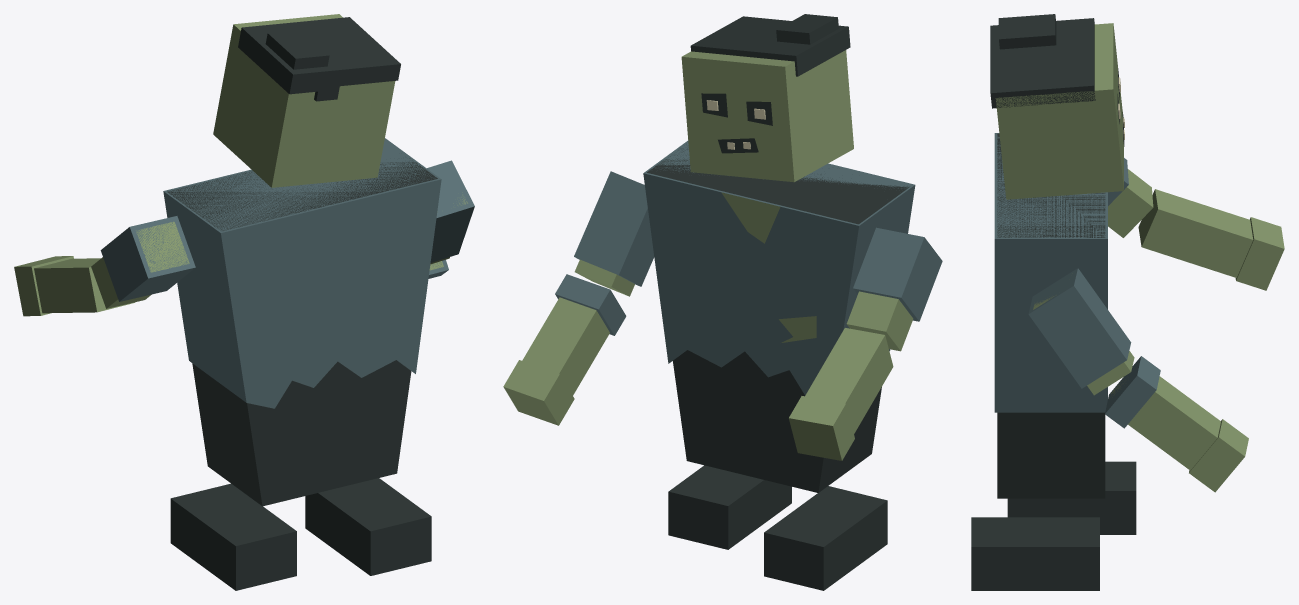
Rendered from zombie_shambler.glb.
3 views of the same model, side by side, from view 1: azimuth 30°, elevation 25°; view 2: azimuth 150°, elevation 25°; view 3: azimuth 270°, elevation 25° (orthographic). The views are drawn at different scales.
Visible parts, largest first — view 1: body, head, ShoeLeft, ShoeRight, armLeft, handLeft, armRight; view 2: body, head, handRight, ShoeLeft, handLeft, armLeft, ShoeRight, armRight; view 3: body, head, ShoeRight, handRight, handLeft, armRight, ShoeLeft, armLeft.
Part boxes in pixels (x1=…): body: x1=163, y1=138, x2=441, y2=506; head: x1=213, y1=14, x2=400, y2=187; ShoeLeft: x1=170, y1=483, x2=296, y2=590; ShoeRight: x1=305, y1=478, x2=431, y2=575; armLeft: x1=91, y1=216, x2=195, y2=308; handLeft: x1=14, y1=256, x2=134, y2=316; armRight: x1=427, y1=160, x2=474, y2=264; body: x1=643, y1=140, x2=915, y2=492; head: x1=681, y1=14, x2=853, y2=182; handRight: x1=503, y1=274, x2=626, y2=425; ShoeLeft: x1=764, y1=486, x2=887, y2=590; handLeft: x1=788, y1=328, x2=893, y2=460; armLeft: x1=846, y1=227, x2=942, y2=351; ShoeRight: x1=668, y1=465, x2=791, y2=549; armRight: x1=574, y1=171, x2=654, y2=296; body: x1=994, y1=133, x2=1107, y2=498; head: x1=990, y1=14, x2=1124, y2=199; ShoeRight: x1=971, y1=517, x2=1099, y2=590; handRight: x1=1105, y1=356, x2=1248, y2=492; handLeft: x1=1138, y1=189, x2=1284, y2=290; armRight: x1=1028, y1=268, x2=1134, y2=395; ShoeLeft: x1=1007, y1=461, x2=1136, y2=534; armLeft: x1=1108, y1=158, x2=1153, y2=237.
Size of the model in its own units: 1.16 by 1.65 by 0.9011.
